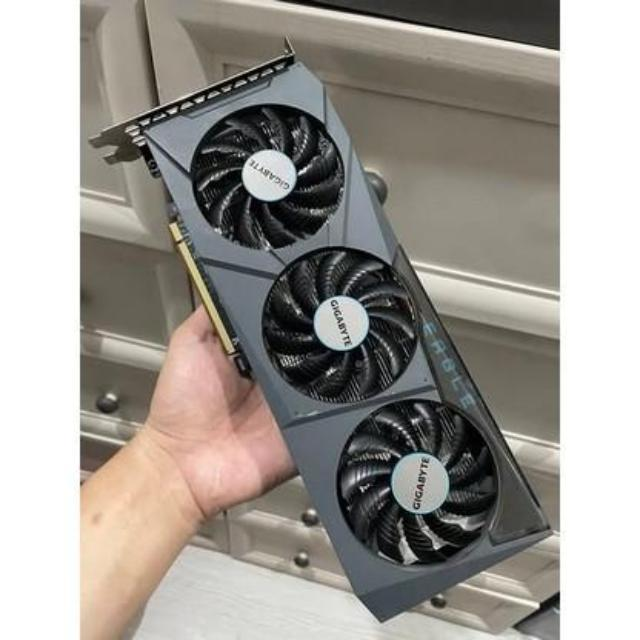GPU: (130, 39, 532, 616)
